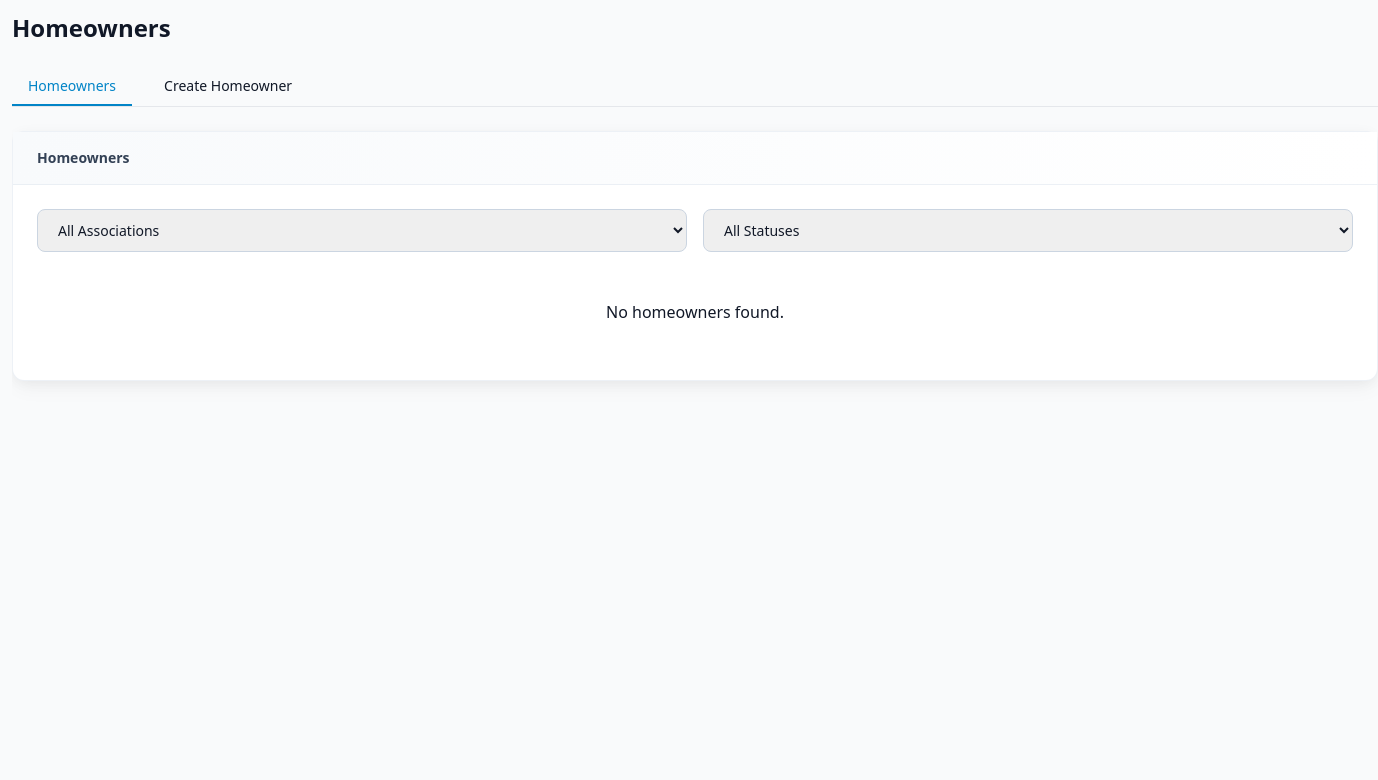
Scenario: HomeownersPage › should switch to create tab
This screenshot has width=1378, height=780.
Click the button "Create Homeowner".
click(228, 87)  # box [148,68,308,106]
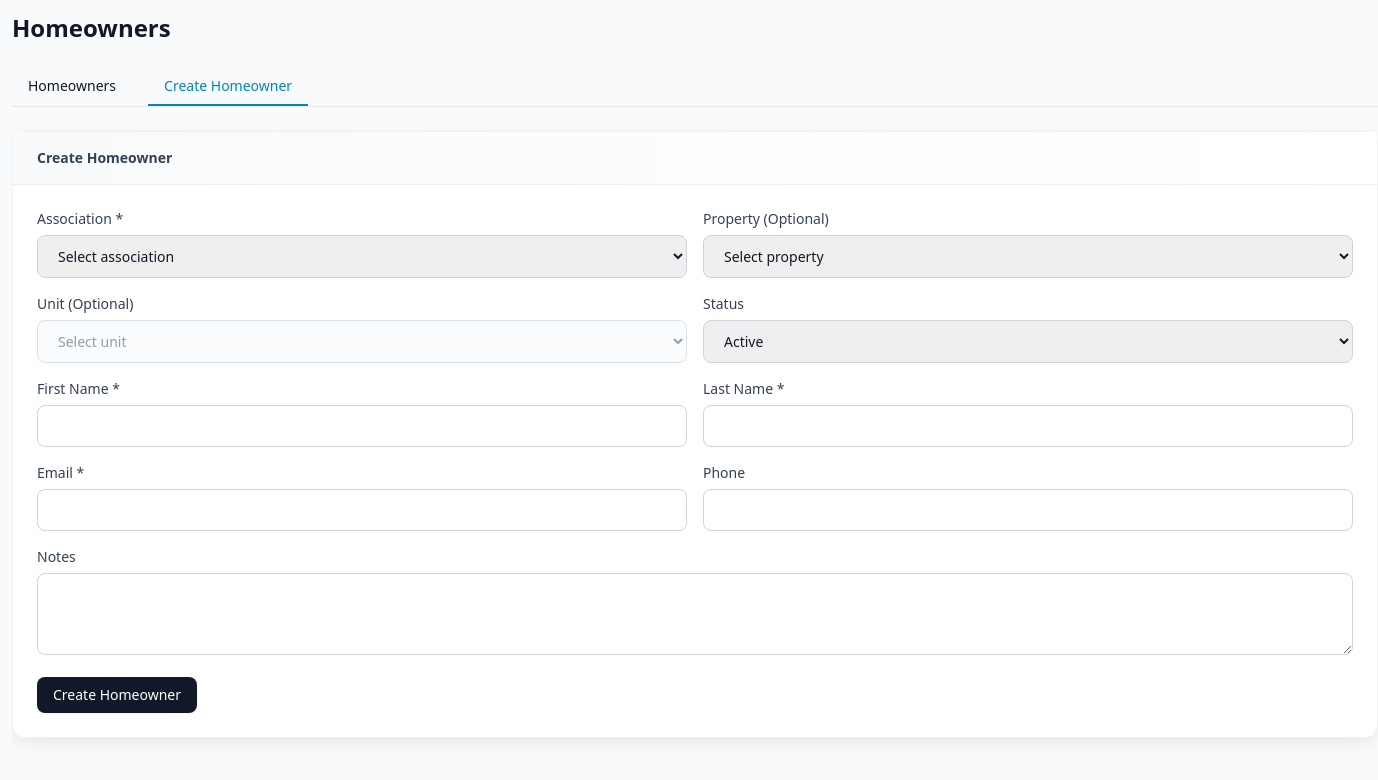
Now the text "Association *" is shown, box [37,209,123,228]
